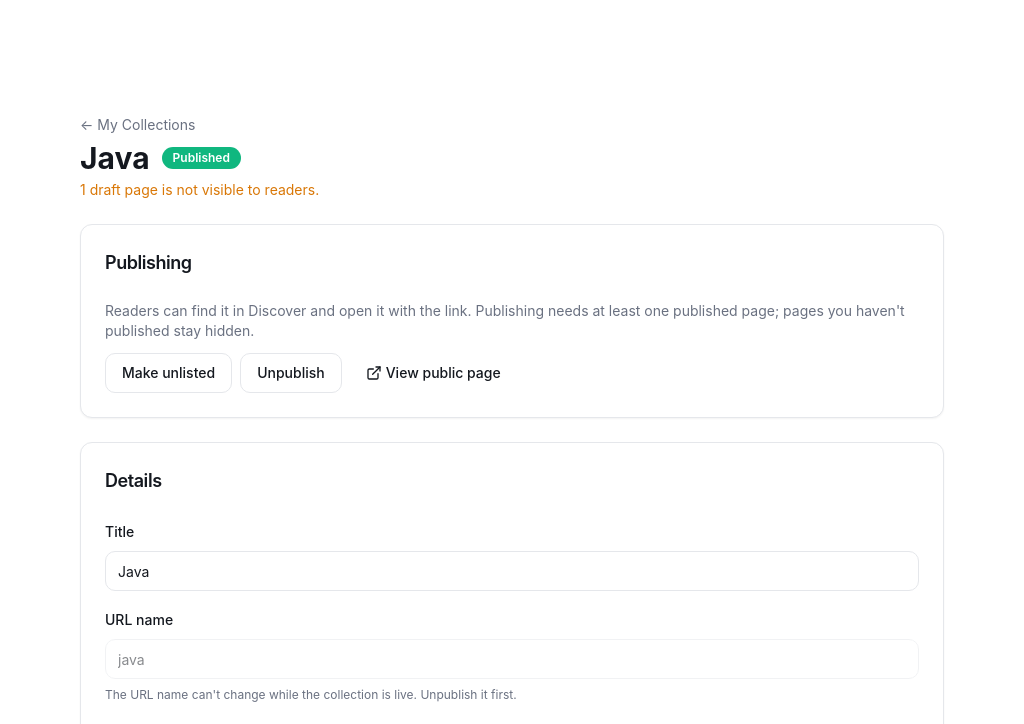
publishing a collection › unpublishes back to a draft
Expected: the heading "Java" is shown, [80,140,150,176]
Click the button "Unpublish" at (291, 373), box [240,353,342,393]
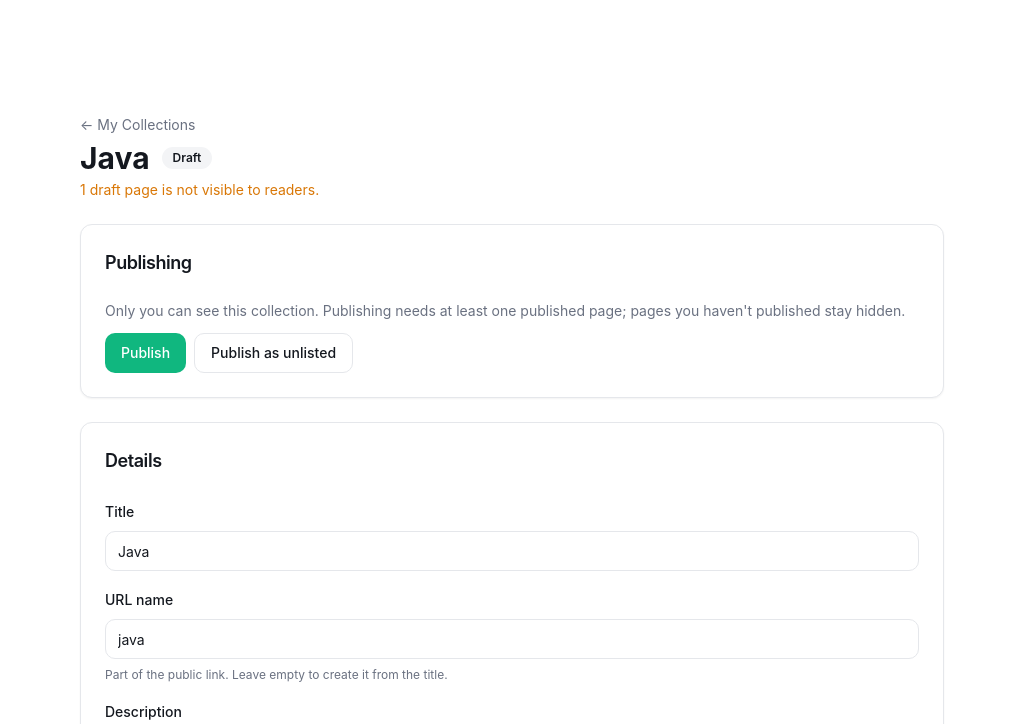
Result: the text with test id "status-badge" reads "Draft" at [173,150,201,165]
